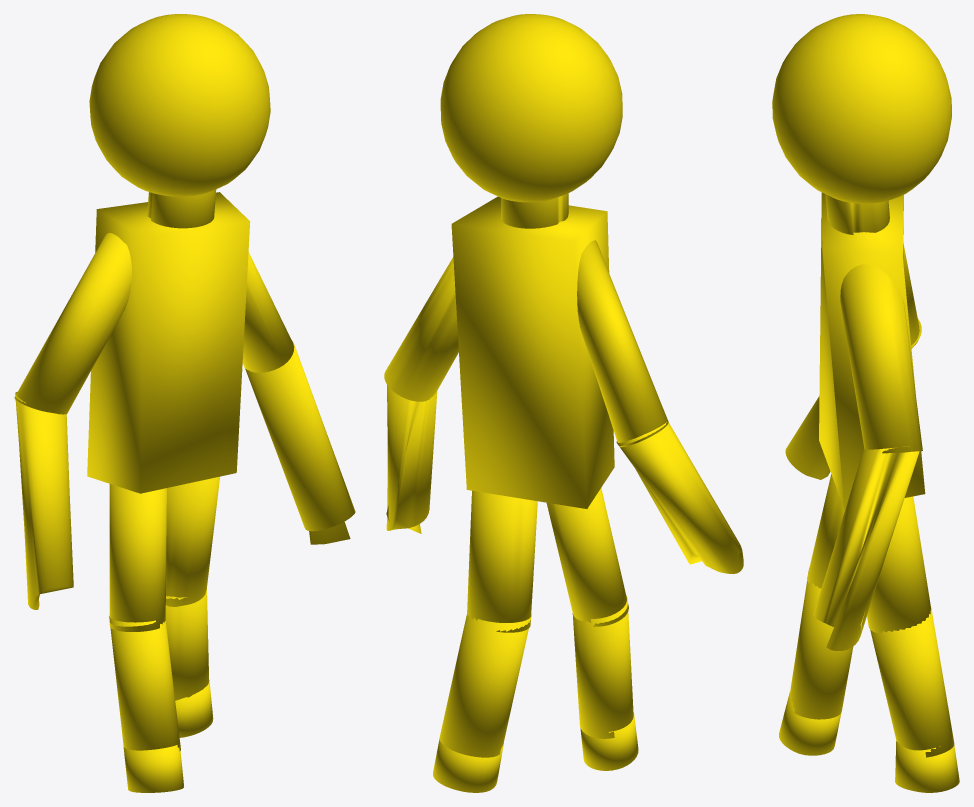
The model's file is person2.obj.
3 views of the same model, side by side, from view 1: azimuth 30°, elevation 25°; view 2: azimuth 150°, elevation 25°; view 3: azimuth 270°, elevation 25° (orthographic).
Visible parts, largest first — view 1: Player_Poppy_Playtime; view 2: Player_Poppy_Playtime; view 3: Player_Poppy_Playtime.
Part boxes in pixels (bbox=[...]): Player_Poppy_Playtime: bbox=[14, 14, 355, 792]; Player_Poppy_Playtime: bbox=[384, 14, 743, 792]; Player_Poppy_Playtime: bbox=[772, 14, 959, 792].
Size of the model in its own units: 2.64 by 5.56 by 1.26.
